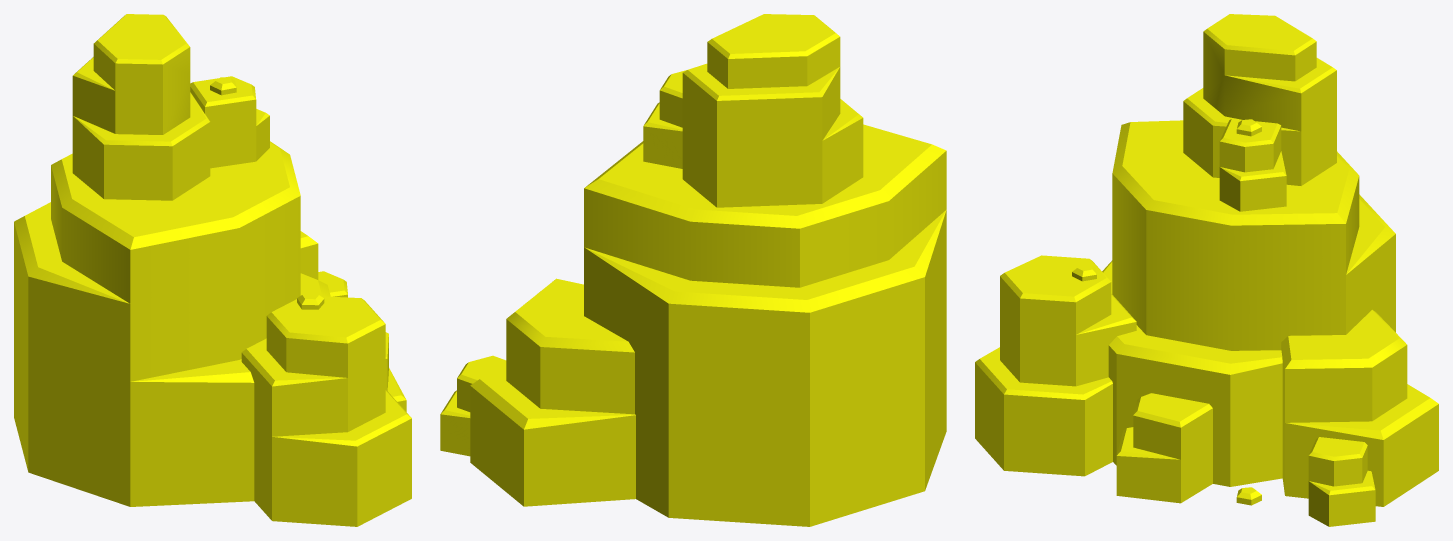
Rendered from kaykit-rock-1-j-color-1.glb.
3 views of the same model, side by side, from view 1: azimuth 30°, elevation 25°; view 2: azimuth 150°, elevation 25°; view 3: azimuth 270°, elevation 25° (orthographic). The views are drawn at different scales.
Parts seen in each view (by area): view 1: Rock_1_J_Color1; view 2: Rock_1_J_Color1; view 3: Rock_1_J_Color1.
Boxes of the visible parts, x1,y1,x2,y2 form: Rock_1_J_Color1: (14,14,411,526); Rock_1_J_Color1: (440,14,946,526); Rock_1_J_Color1: (975,14,1438,526).
Size of the model in its own units: 3.39 by 3.36 by 3.76.
